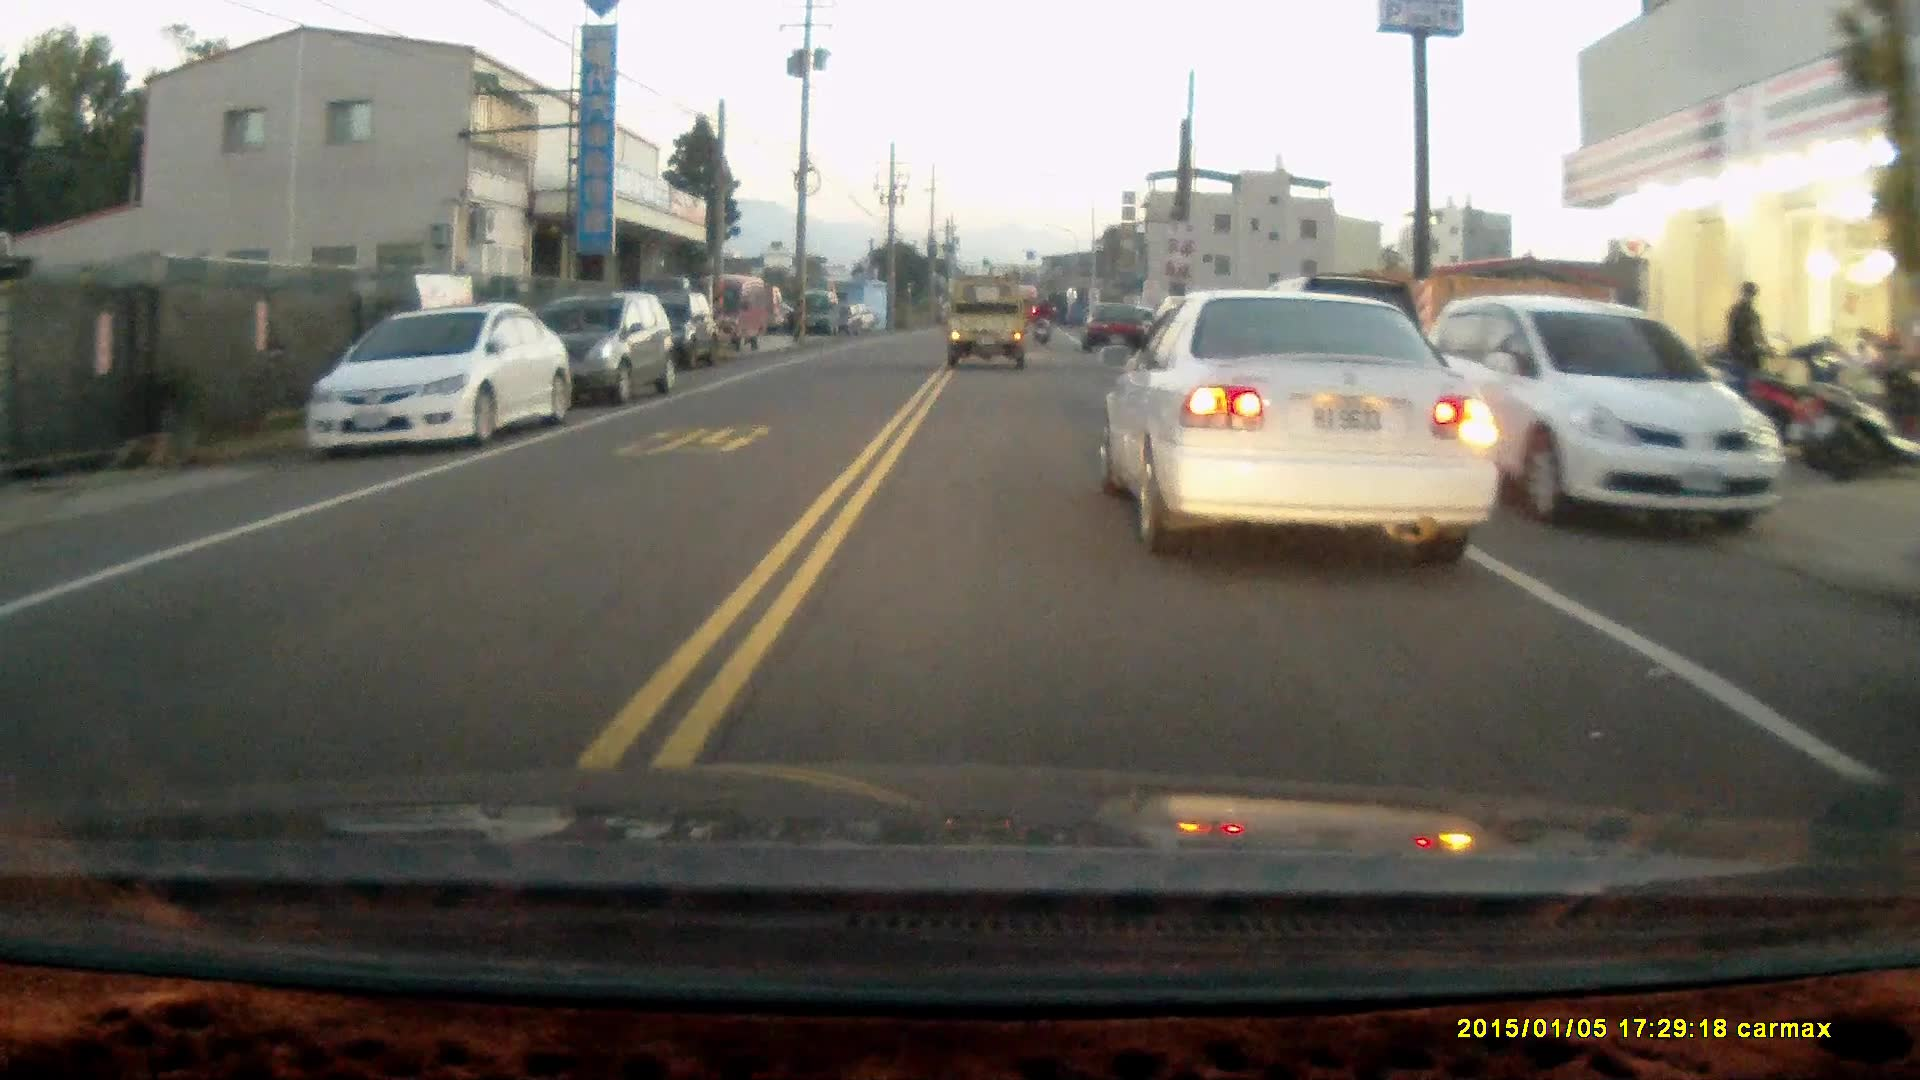pedestrian: (1723, 279, 1771, 396)
rider: (1029, 295, 1056, 343)
vehicle: (1102, 287, 1498, 563), (1415, 293, 1784, 532), (302, 297, 573, 452), (502, 288, 674, 405), (624, 286, 724, 372), (946, 272, 1032, 369), (700, 273, 773, 348), (1091, 302, 1157, 347)
